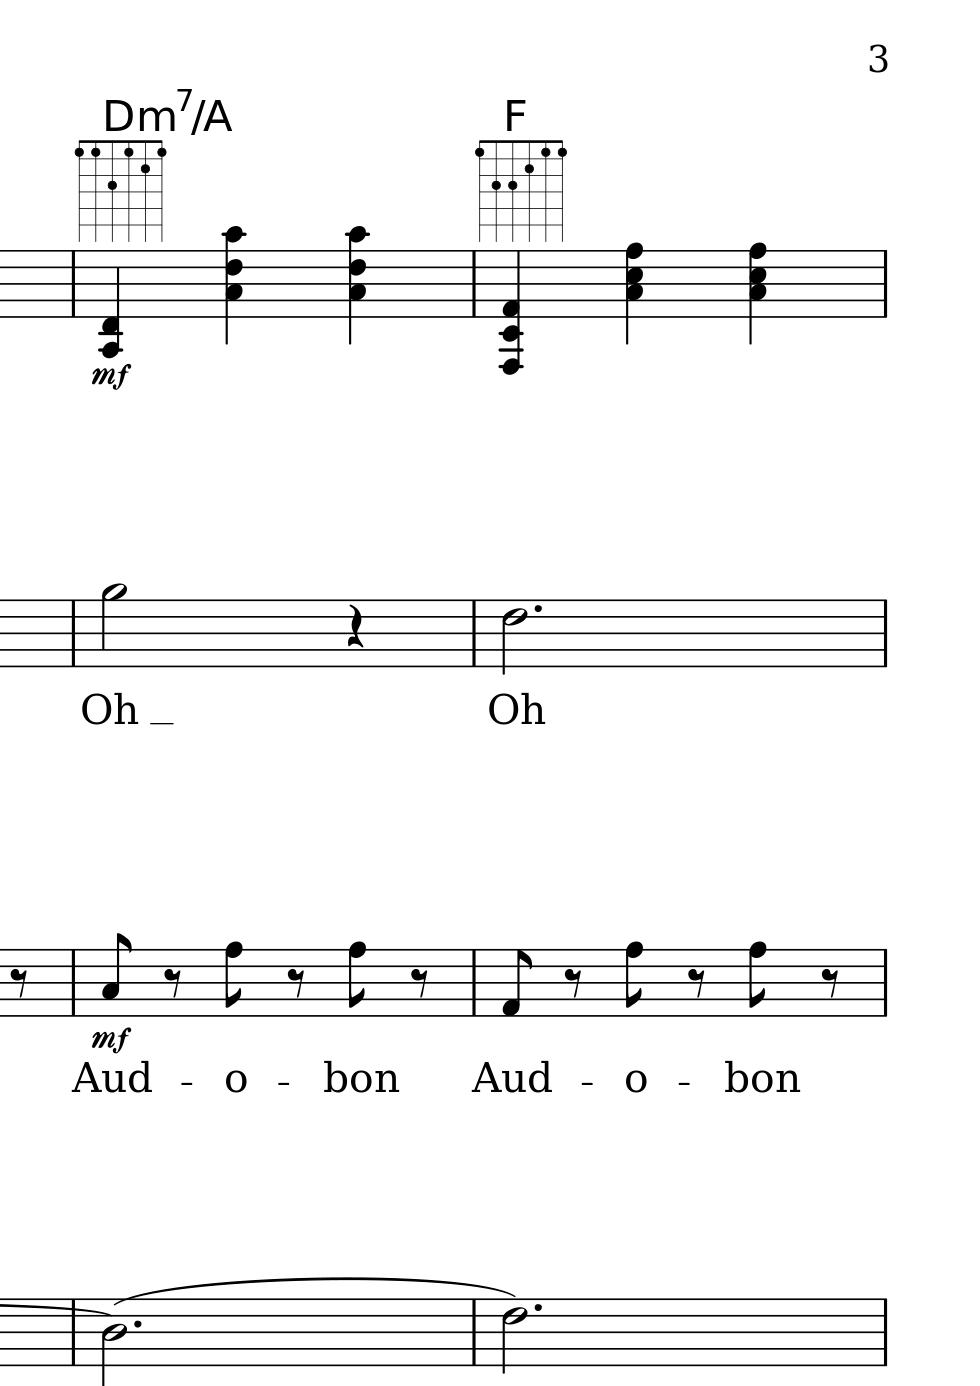2_4: (99, 1295, 129, 1386)
2_6: (498, 1297, 529, 1375), (500, 598, 530, 676)
2_9: (100, 581, 128, 670)
3: (867, 41, 890, 76)
4_-4_-1: (98, 249, 124, 359)
4_th: (217, 225, 249, 346), (342, 227, 370, 344), (498, 251, 525, 376), (622, 243, 644, 344), (746, 242, 767, 345)
8_1: (498, 947, 533, 1017)
8_3: (99, 931, 132, 1018)
8_8: (345, 940, 368, 1019), (745, 940, 768, 1019), (222, 940, 245, 1018), (622, 940, 644, 1018)
Fretboard: (72, 134, 167, 243), (473, 135, 566, 244)
Rests4: (344, 603, 366, 650)
Rests8: (819, 965, 843, 1001), (160, 966, 185, 1001), (686, 966, 708, 1001), (7, 966, 31, 999), (562, 966, 584, 1000), (285, 966, 307, 1001), (409, 966, 430, 1000)
Single_barline: (873, 250, 894, 318), (463, 251, 485, 319), (463, 600, 484, 669), (463, 1299, 484, 1365), (875, 1298, 893, 1366), (465, 949, 482, 1016), (876, 600, 893, 666), (65, 599, 81, 667), (877, 949, 893, 1016), (65, 950, 81, 1015), (66, 251, 81, 314), (67, 1299, 81, 1366)
Slur: (109, 1275, 519, 1308)
dot: (531, 1301, 545, 1316), (528, 602, 545, 614), (132, 1318, 143, 1332)
mf: (89, 1025, 133, 1056), (90, 362, 132, 393)
